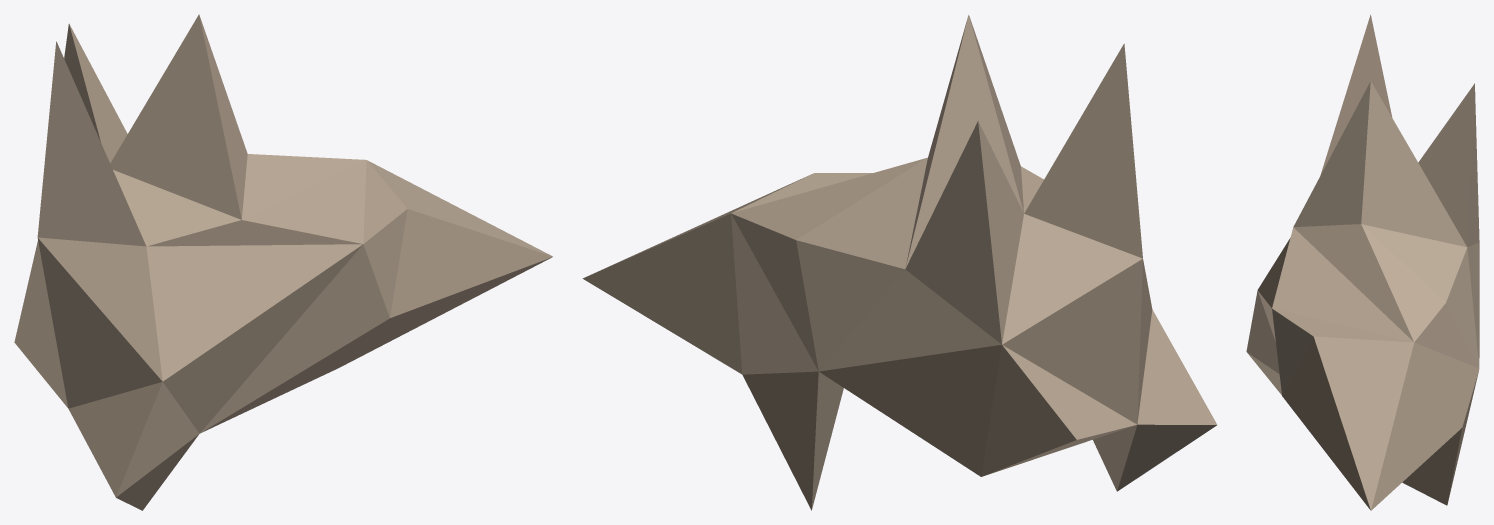
The picture shows the model from 3 angles, left to right: view 1: azimuth 30°, elevation 25°; view 2: azimuth 150°, elevation 25°; view 3: azimuth 270°, elevation 25°; orthographic projection. The views are drawn at different scales.
Visible parts, largest first — view 1: part0; view 2: part0; view 3: part0.
Part boxes in pixels (x1,y1,x2,y2): part0: [14, 14, 552, 510]; part0: [582, 14, 1217, 510]; part0: [1246, 14, 1479, 510].
Size of the model in its own units: 2.45 by 2.07 by 1.12.
